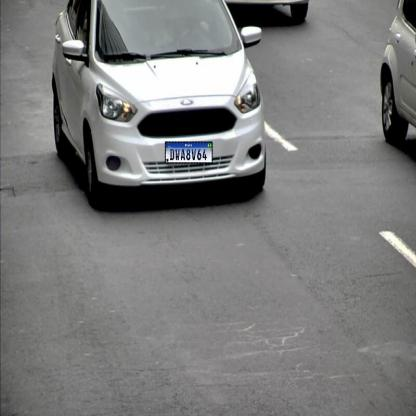PlacaM: (165, 141, 213, 164)
